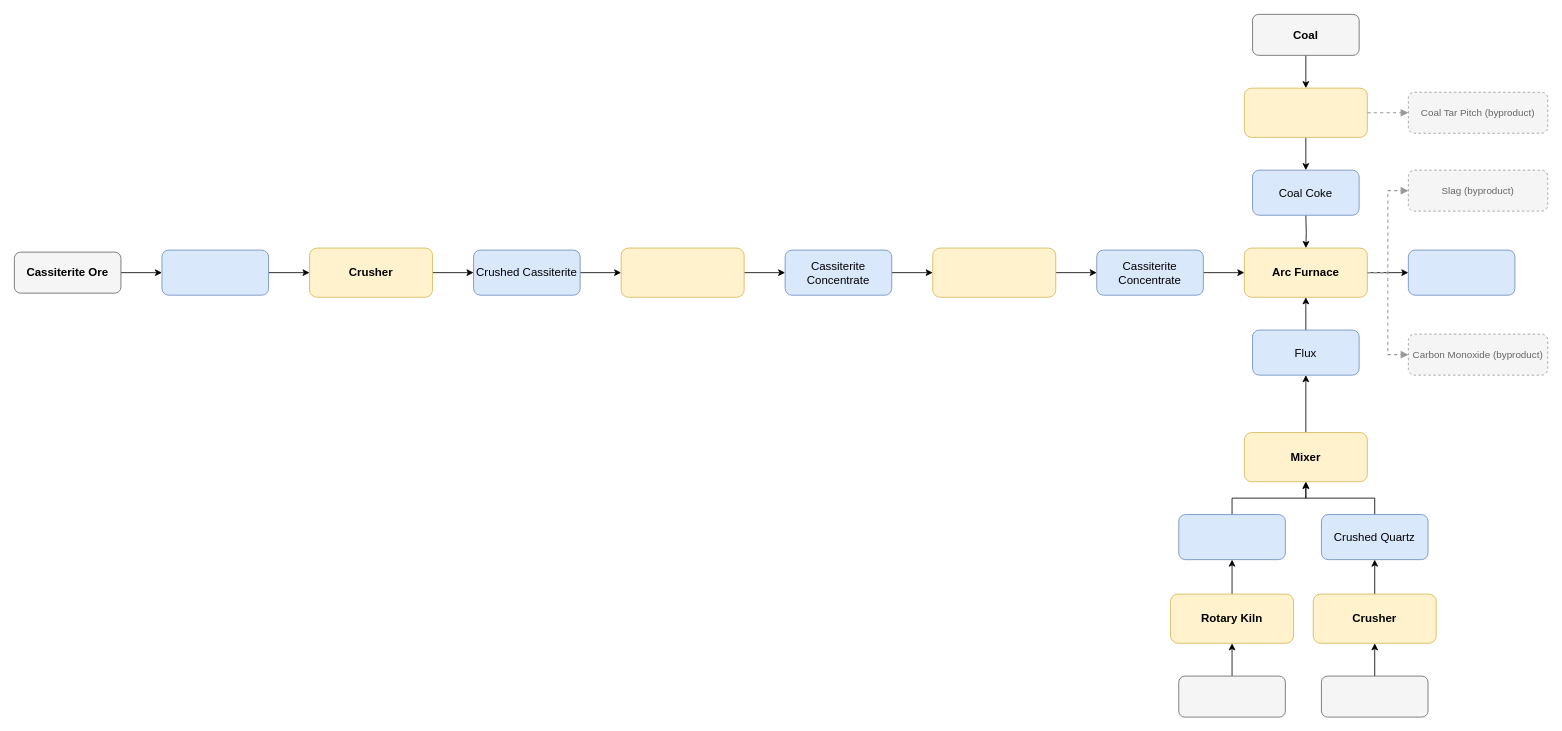
This 1562x731 diagram has some shape labels left out. The box of each missing label's shape, as (x1, y1, x2, y2) in pixels:
Calcium Oxide: (1178, 514, 1285, 560)
Cassiterite: (161, 249, 269, 295)
Centrifugal Concentrator: (932, 247, 1056, 297)
Coke Oven: (1244, 87, 1367, 137)
Limestone: (1178, 675, 1285, 717)
Molten Tin: (1408, 249, 1515, 295)
Quartz: (1321, 675, 1428, 717)
Shaking Table: (620, 247, 744, 297)
